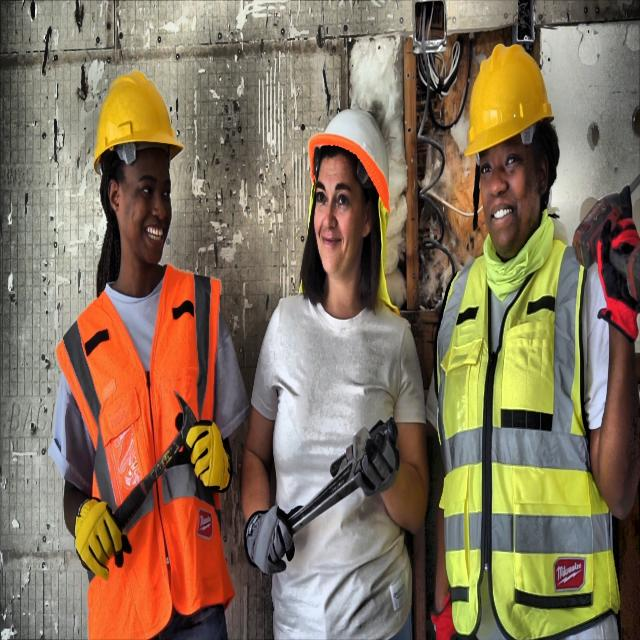gloved: (61, 499, 142, 589), (579, 222, 640, 334), (181, 407, 235, 488), (357, 412, 397, 518), (247, 499, 293, 578)
